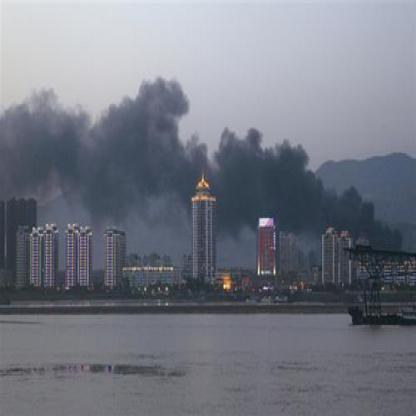smoke: (99, 116, 191, 191), (9, 116, 90, 180), (222, 144, 282, 206), (288, 171, 320, 228), (339, 190, 363, 226)
